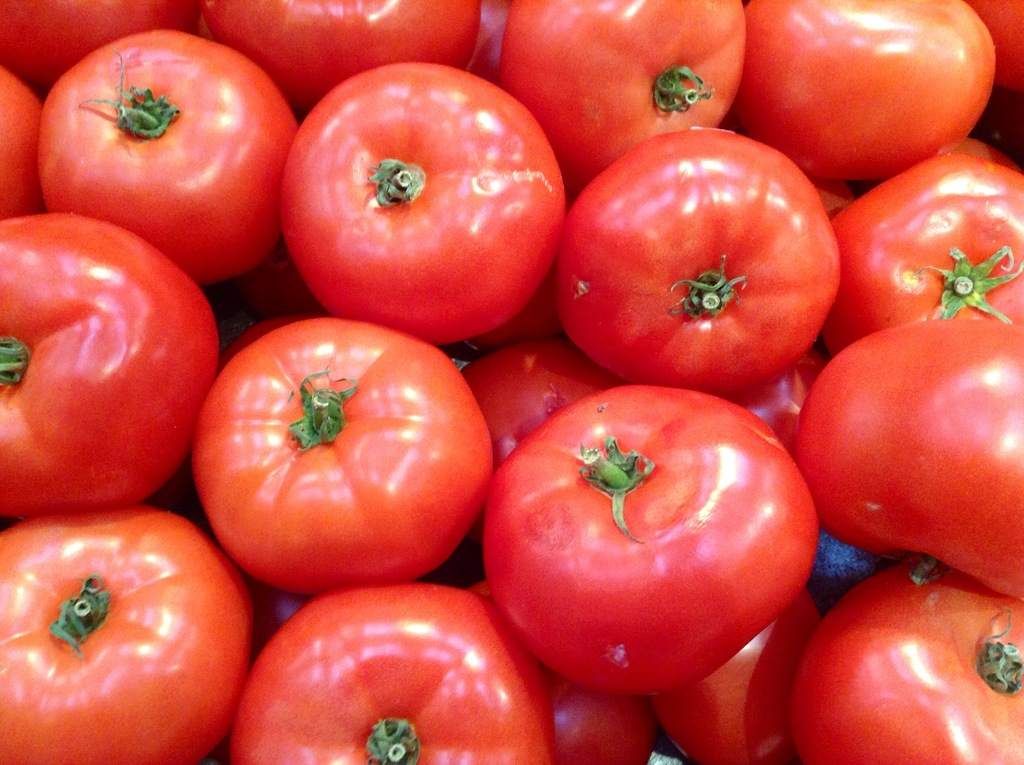Tomato: (0, 0, 1023, 764), (279, 75, 570, 341)
